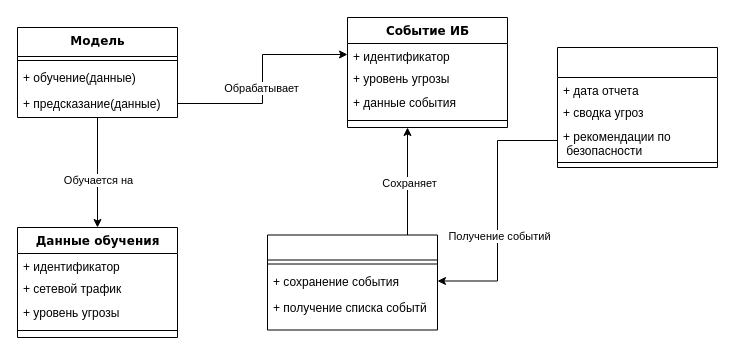
Image size: 735x355. Some labels were removed from this diagram. The box of each missing label's shape, as (x1, y1, x2, y2) in pixels:
База данных: (266, 234, 438, 330)
Отчет по безопасности: (556, 46, 718, 168)
